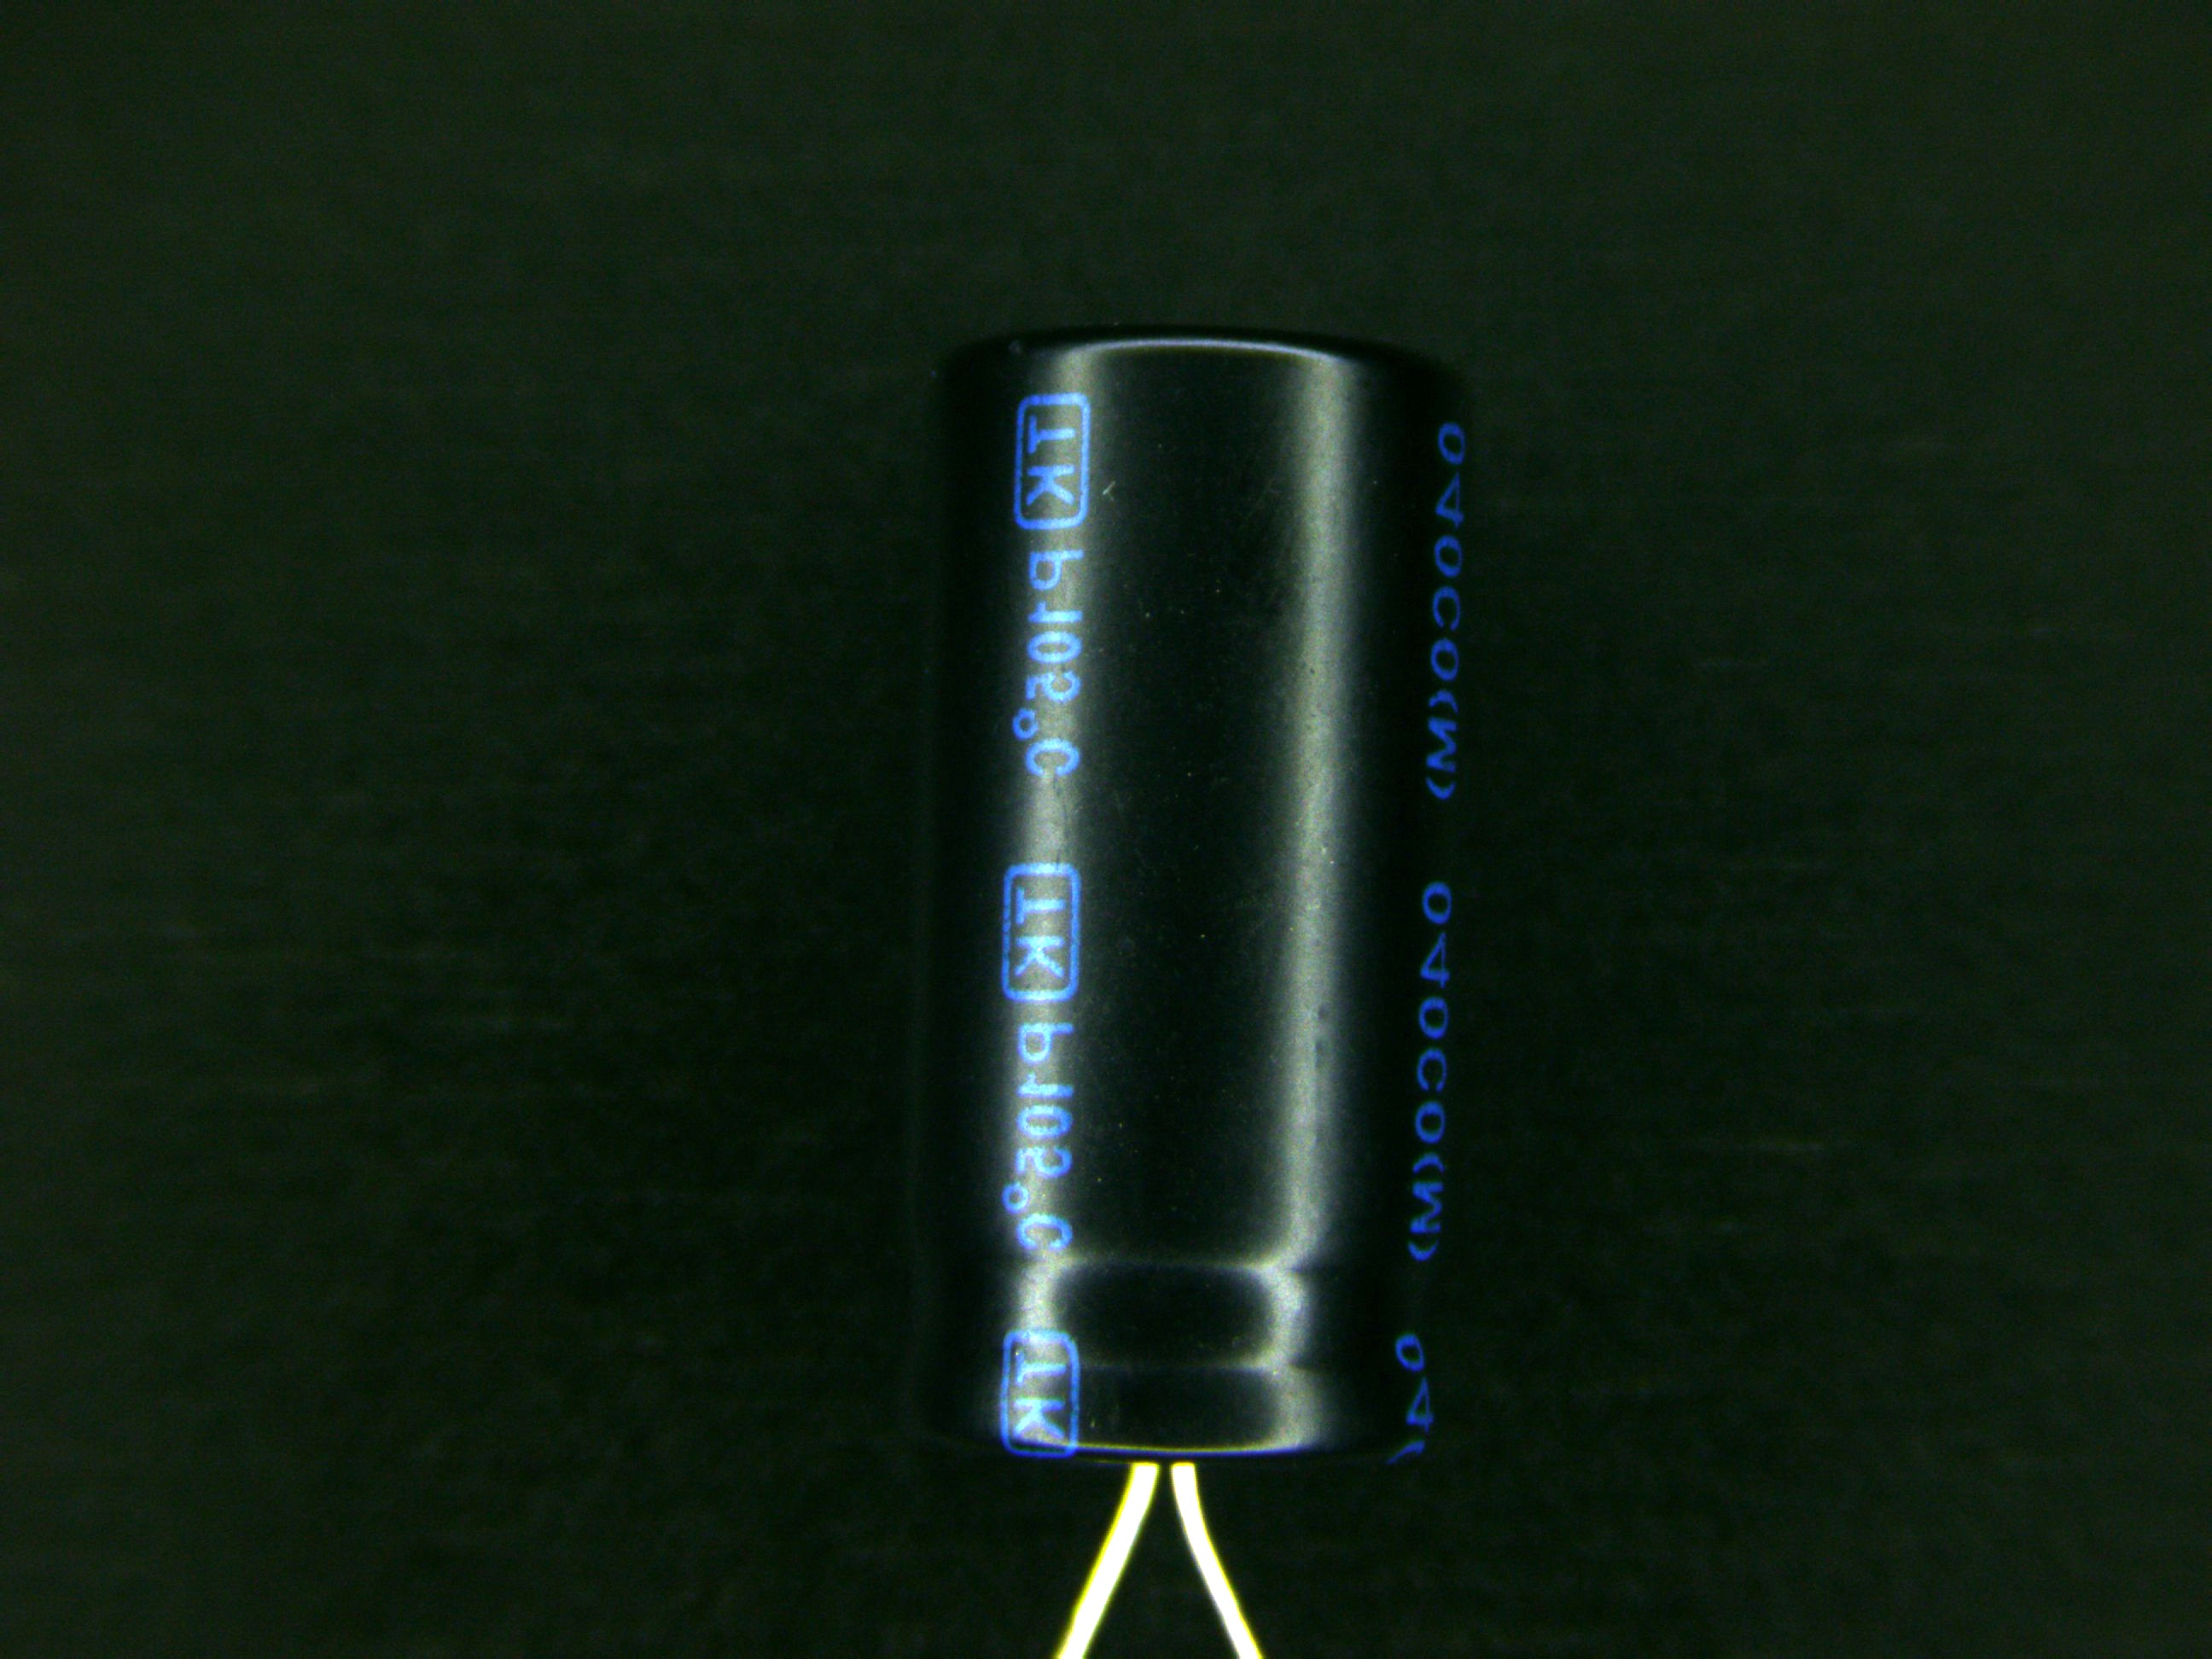c2: (899, 326, 1494, 1568)
